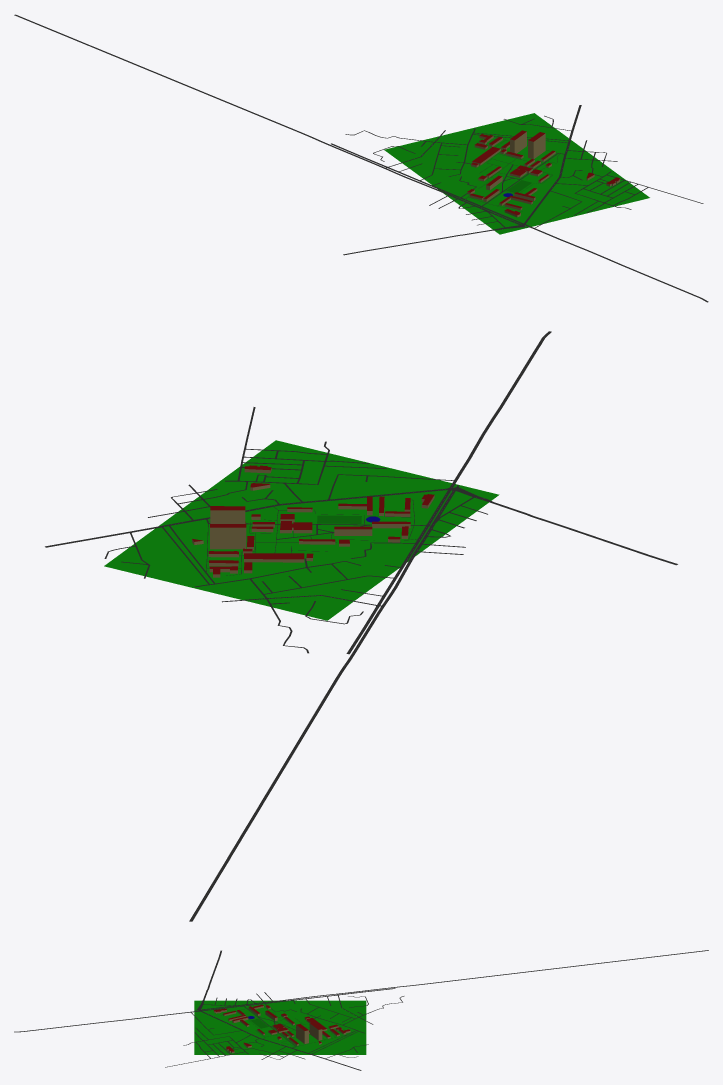
File: BK_map.obj
The picture shows the model from 3 angles, top to bottom: view 1: azimuth 30°, elevation 25°; view 2: azimuth 150°, elevation 25°; view 3: azimuth 270°, elevation 25°; orthographic projection. The views are drawn at different scales.
Parts seen in each view (by area): view 1: SurfaceArea345, SurfaceArea344, SurfaceArea347, SurfaceArea348, object 342, SurfaceArea346, SurfaceArea349; view 2: SurfaceArea345, SurfaceArea344, SurfaceArea347, SurfaceArea348, SurfaceArea346, object 342, SurfaceArea349, object 383; view 3: SurfaceArea344, SurfaceArea345, SurfaceArea347, SurfaceArea348, object 342, SurfaceArea346, SurfaceArea349, object 335.
Part boxes in pixels (left/top/right/bottom): SurfaceArea345: left=403, top=144, right=534, bottom=199; SurfaceArea344: left=452, top=179, right=582, bottom=234; SurfaceArea347: left=535, top=162, right=649, bottom=214; SurfaceArea348: left=487, top=127, right=601, bottom=178; object 342: left=14, top=14, right=708, bottom=302; SurfaceArea346: left=384, top=129, right=481, bottom=163; SurfaceArea349: left=468, top=113, right=553, bottom=143; SurfaceArea345: left=238, top=517, right=427, bottom=599; SurfaceArea344: left=304, top=464, right=499, bottom=547; SurfaceArea347: left=204, top=440, right=374, bottom=516; SurfaceArea348: left=133, top=492, right=302, bottom=566; SurfaceArea346: left=203, top=571, right=355, bottom=620; object 342: left=189, top=331, right=551, bottom=921; SurfaceArea349: left=104, top=545, right=227, bottom=590; object 383: left=210, top=524, right=246, bottom=549; SurfaceArea344: left=194, top=1000, right=265, bottom=1030; SurfaceArea345: left=266, top=1000, right=337, bottom=1030; SurfaceArea347: left=194, top=1031, right=265, bottom=1054; SurfaceArea348: left=266, top=1031, right=337, bottom=1054; object 342: left=14, top=950, right=708, bottom=1032; SurfaceArea346: left=337, top=1000, right=366, bottom=1030; SurfaceArea349: left=337, top=1031, right=366, bottom=1054; object 335: left=201, top=1011, right=361, bottom=1070.
Size of the model in its own units: 1196 by 60 by 2906.
